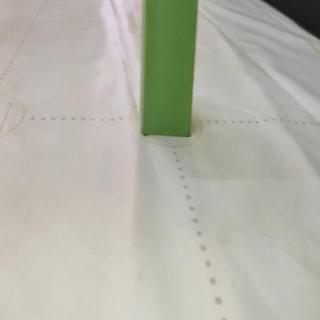greenbox: (141, 0, 198, 136)
